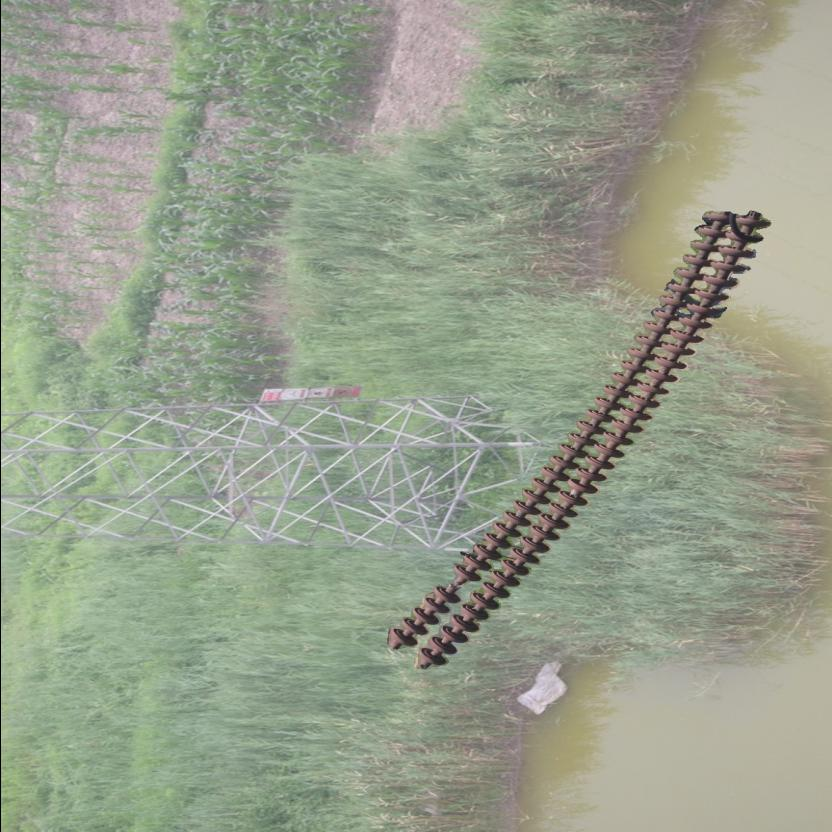defect: (430, 560, 479, 604)
